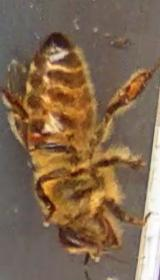varroa_mite: (23, 112, 54, 151)
